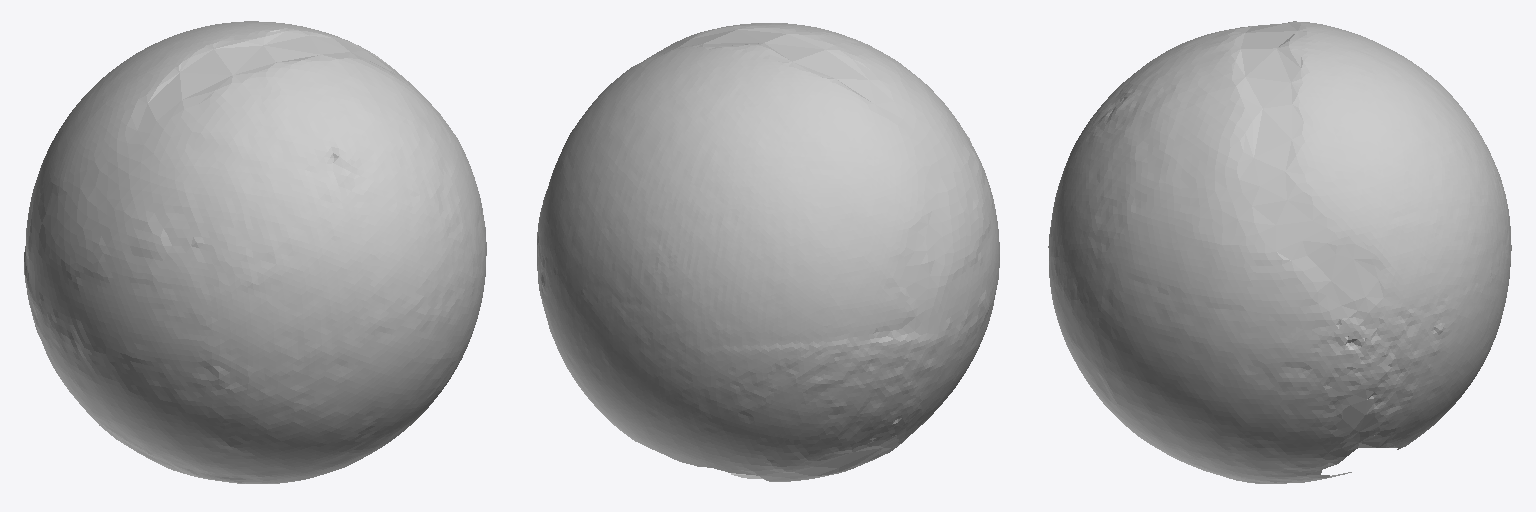
The model's file is Gridtest_2_3_1.000001.obj.
3 renders of one model, left to right at view 1: azimuth 30°, elevation 25°; view 2: azimuth 150°, elevation 25°; view 3: azimuth 270°, elevation 25°, orthographic.
Size of the model in its own units: 298 by 303 by 299.